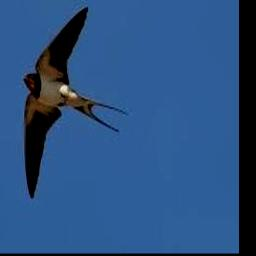Swallow: (21, 7, 127, 199)
